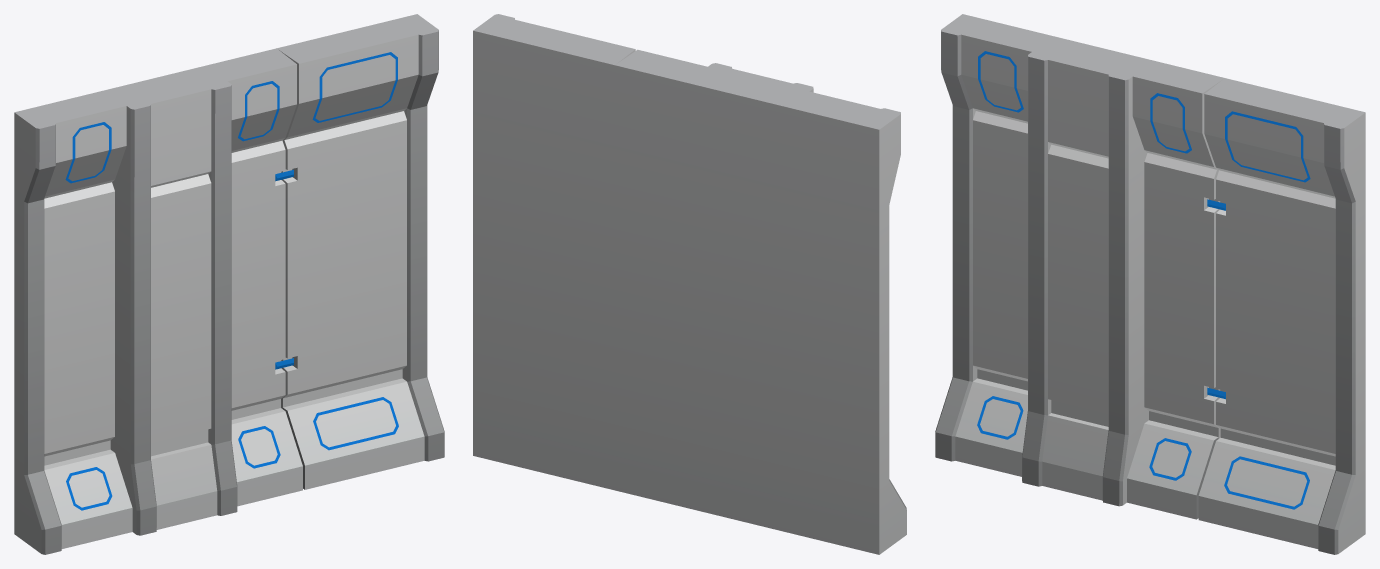
File: Wall_type_A_048.glb
The picture shows the model from 3 angles, left to right: view 1: azimuth 30°, elevation 25°; view 2: azimuth 150°, elevation 25°; view 3: azimuth 330°, elevation 25°; orthographic projection.
Visible parts, largest first — view 1: Wall_type_A_048; view 2: Wall_type_A_048; view 3: Wall_type_A_048.
Boxes of the visible parts, x1,y1,x2,y2 form: Wall_type_A_048: (14,14,444,554); Wall_type_A_048: (473,14,906,554); Wall_type_A_048: (935,14,1365,554).
Bounding box in the file's own units: 4 × 4 × 0.57.
2 materials, 2 textured.
